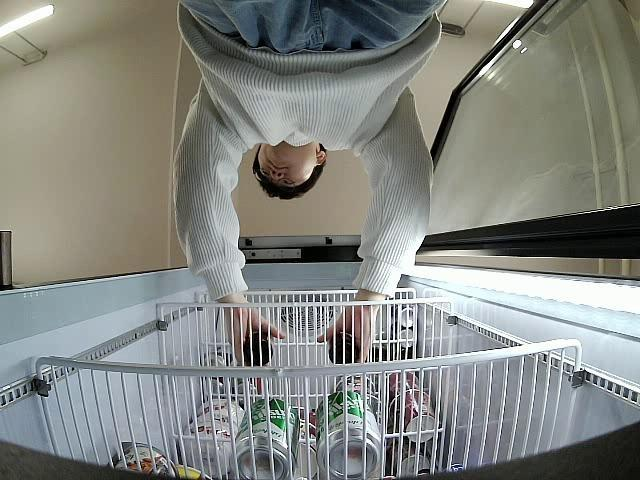17_vita500: (242, 330, 274, 368), (328, 330, 358, 364)
